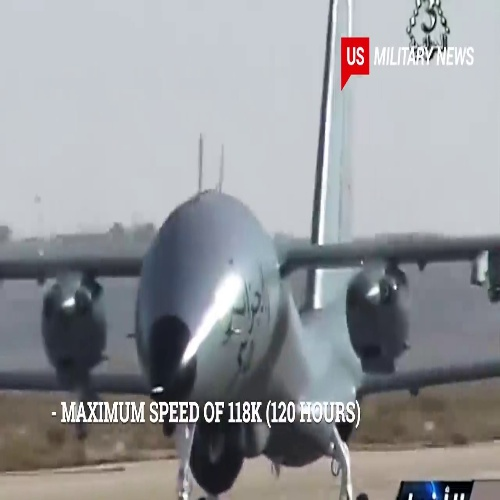uav600: (7, 7, 493, 499)
